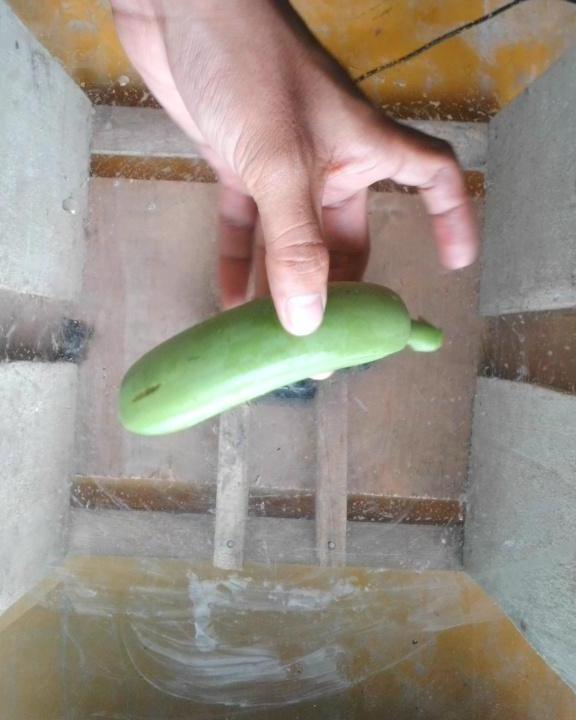CLASS B: (111, 270, 443, 436)
Class A: (125, 374, 169, 416)
